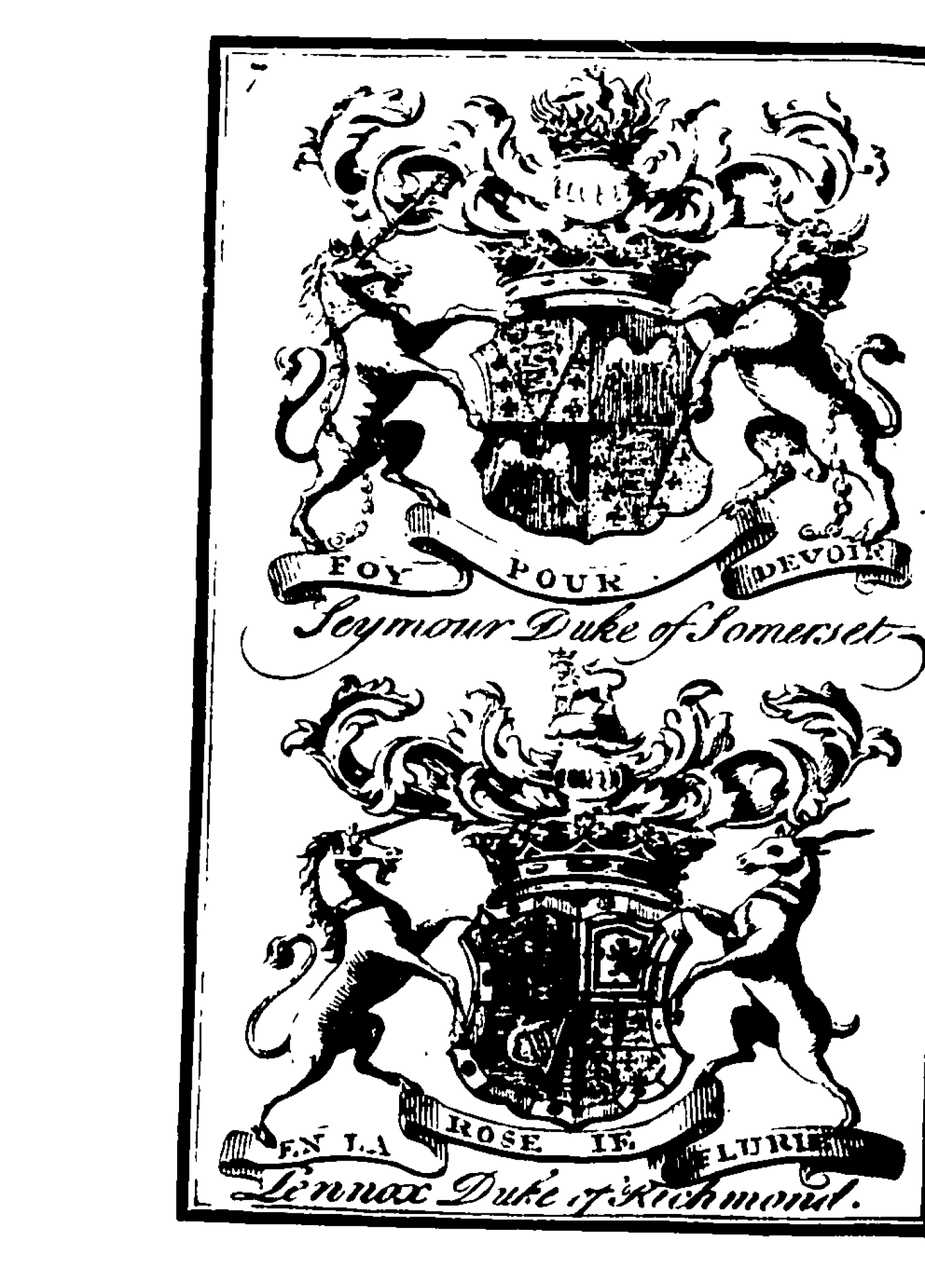coat_of_arms: (264, 62, 915, 668), (259, 654, 905, 1214)
